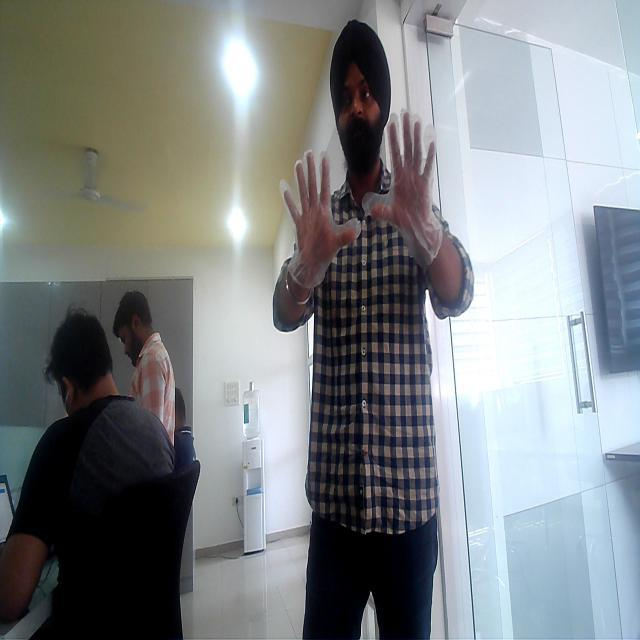with_gloves: (346, 108, 472, 276), (277, 150, 353, 305)
